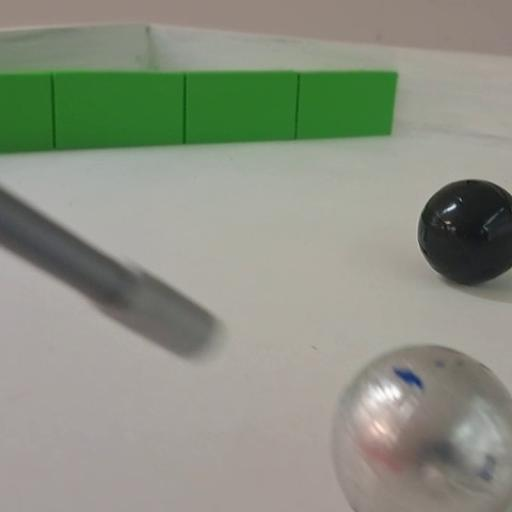alive: (330, 346, 512, 510)
dead: (416, 178, 512, 286)
